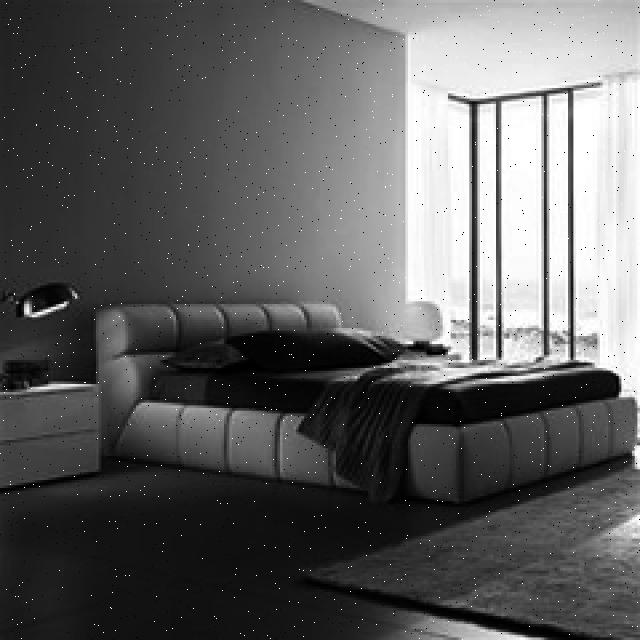bed: (118, 306, 628, 485)
